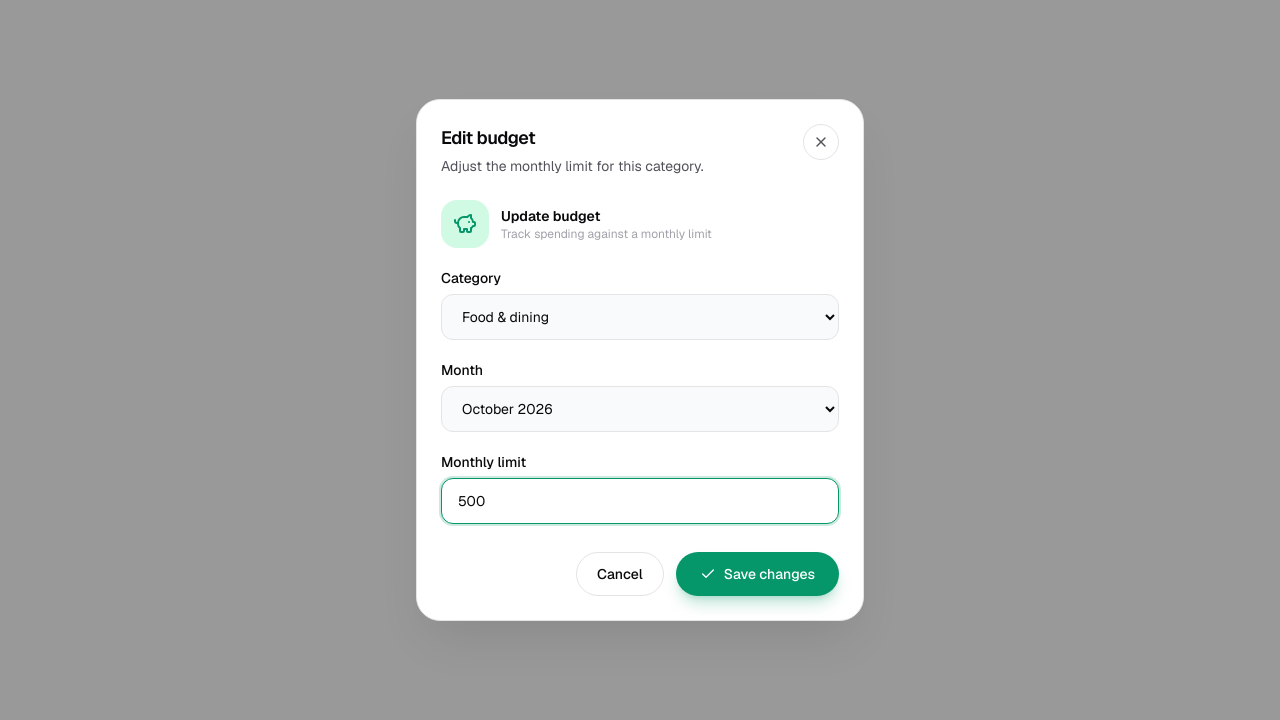
BudgetFormModal › editing a budget › reports an edit the user left invalid and saves nothing
Step 1. Clear the field labelled "Monthly limit" → coordinates (640, 501), box [441,478,839,524]
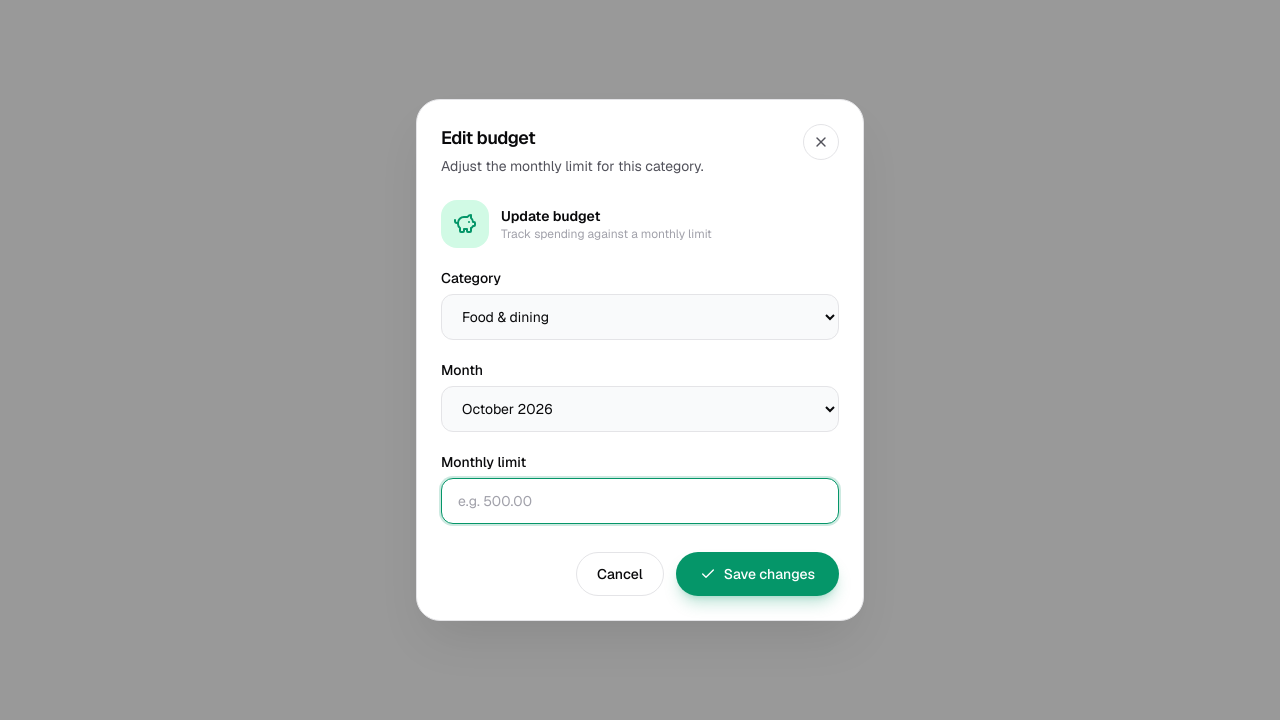
Step 2. Click the button "Save changes" → coordinates (757, 574), box [676,552,839,596]
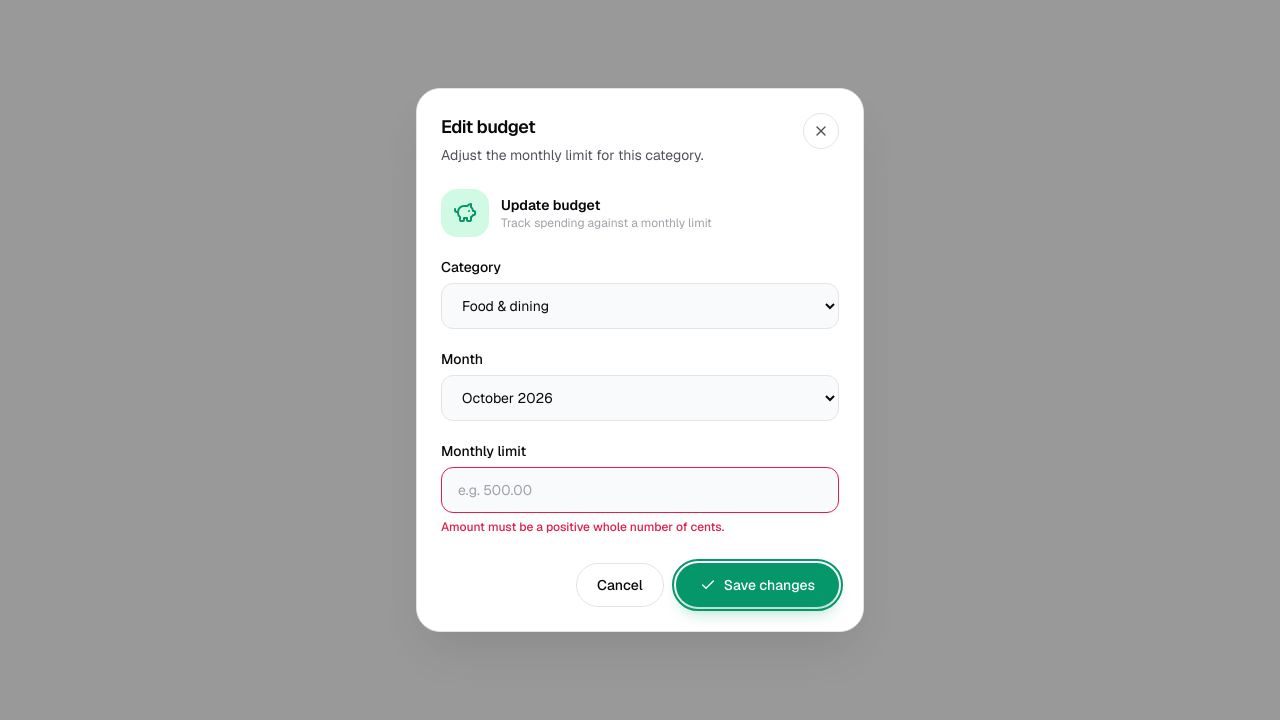
Check: the text "Amount must be a positive whole number of cents." is shown, box [441,519,724,535]
